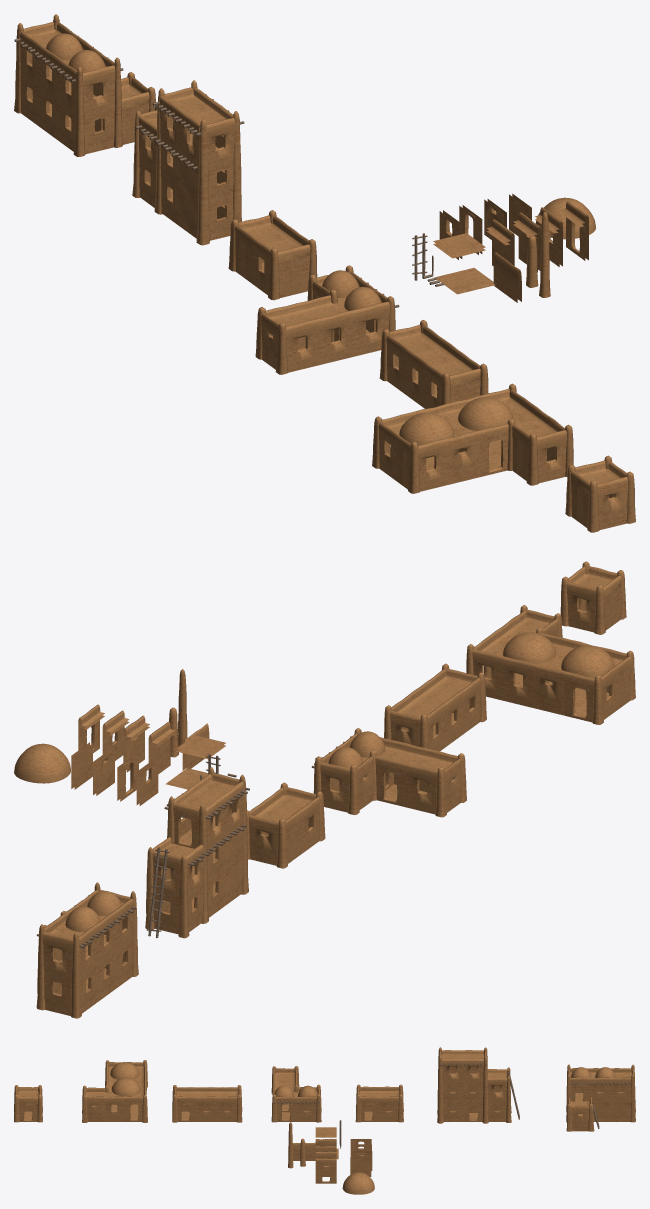
File: house3.gltf
The picture shows the model from 3 angles, top to bottom: view 1: azimuth 30°, elevation 25°; view 2: azimuth 150°, elevation 25°; view 3: azimuth 270°, elevation 25°; orthographic projection. The views are drawn at different scales.
Parts seen in each view (by area): view 1: Haus_6, Haus_2, Haus_7, Haus_4, Haus_3, Haus_5, Haus_1, haube.005, haube.006, object 5, Mauer, Boden (+6 smaller); view 2: Haus_6, Haus_2, Haus_7, Haus_4, Haus_3, Haus_5, Haus_1, haube, haube.006, haube.005, Wand_dach, wand_dach_kleinesfenster (+9 smaller); view 3: Haus_6, Haus_7, Haus_2, Haus_3, Haus_4, Haus_5, Haus_1, haube, object 5, haube.005, haube.006, Wand (+3 smaller).
Boxes of the visible parts, <box> form: Haus_6: <box>132,80,241,245</box>; Haus_2: <box>372,383,573,493</box>; Haus_7: <box>14,14,155,156</box>; Haus_4: <box>255,265,395,374</box>; Haus_3: <box>379,320,488,408</box>; Haus_5: <box>228,210,317,300</box>; Haus_1: <box>565,455,635,532</box>; haube.005: <box>458,397,513,430</box>; haube.006: <box>399,412,454,445</box>; object 5: <box>560,201,588,260</box>; Mauer: <box>493,252,521,302</box>; Boden: <box>434,268,495,294</box>; Haus_6: <box>145,767,248,938</box>; Haus_2: <box>466,605,635,724</box>; Haus_7: <box>36,882,138,1018</box>; Haus_4: <box>313,728,466,817</box>; Haus_3: <box>384,663,486,751</box>; Haus_5: <box>247,782,325,868</box>; Haus_1: <box>560,561,626,634</box>; haube: <box>14,743,70,783</box>; haube.006: <box>561,645,614,677</box>; haube.005: <box>503,632,556,664</box>; Wand_dach: <box>148,722,175,773</box>; wand_dach_kleinesfenster: <box>123,715,149,772</box>; Haus_6: <box>437,1047,511,1123</box>; Haus_7: <box>566,1064,635,1131</box>; Haus_2: <box>82,1060,147,1122</box>; Haus_3: <box>172,1085,242,1122</box>; Haus_4: <box>271,1066,321,1122</box>; Haus_5: <box>355,1084,403,1122</box>; Haus_1: <box>14,1085,42,1122</box>; haube: <box>342,1172,374,1194</box>; object 5: <box>315,1158,336,1183</box>; haube.005: <box>111,1077,140,1096</box>; haube.006: <box>110,1062,139,1079</box>; Wand: <box>350,1157,371,1176</box>.
Bounding box in the file's own units: 3571 × 1019 × 8594.
2 materials, 2 textured.
